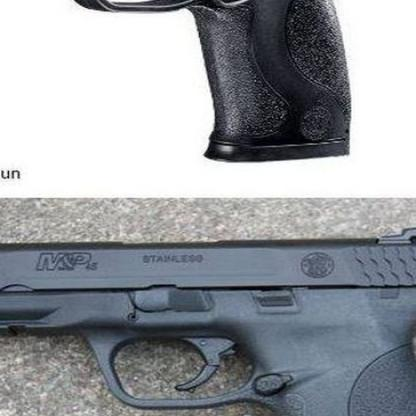gun: (0, 227, 415, 415), (0, 0, 390, 164)
